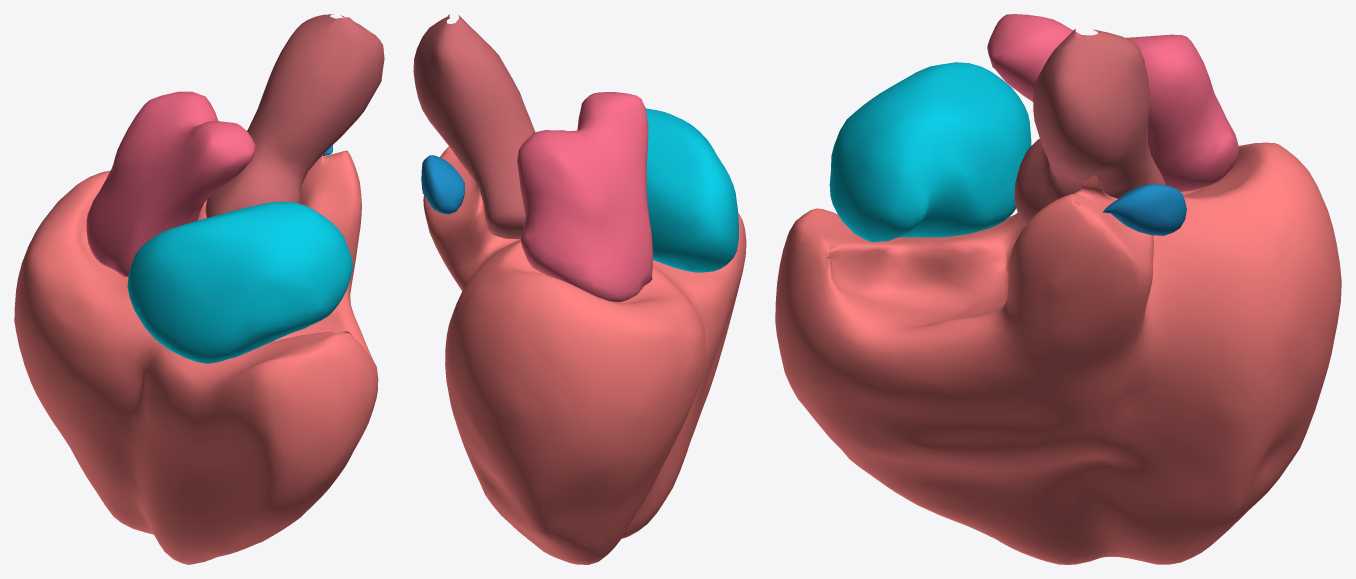
File: frame_59.glb
3 renders of one model, left to right at view 1: azimuth 30°, elevation 25°; view 2: azimuth 150°, elevation 25°; view 3: azimuth 270°, elevation 25°, orthographic. The views are drawn at different scales.
Parts seen in each view (by area): view 1: Renderer Node; view 2: Renderer Node; view 3: Renderer Node.
Boxes of the visible parts, box(x1,y1,x2,y2) form: Renderer Node: box(14, 14, 384, 564); Renderer Node: box(413, 14, 746, 564); Renderer Node: box(775, 14, 1341, 564).
Bounding box in the file's own units: 103 × 158 × 128.
